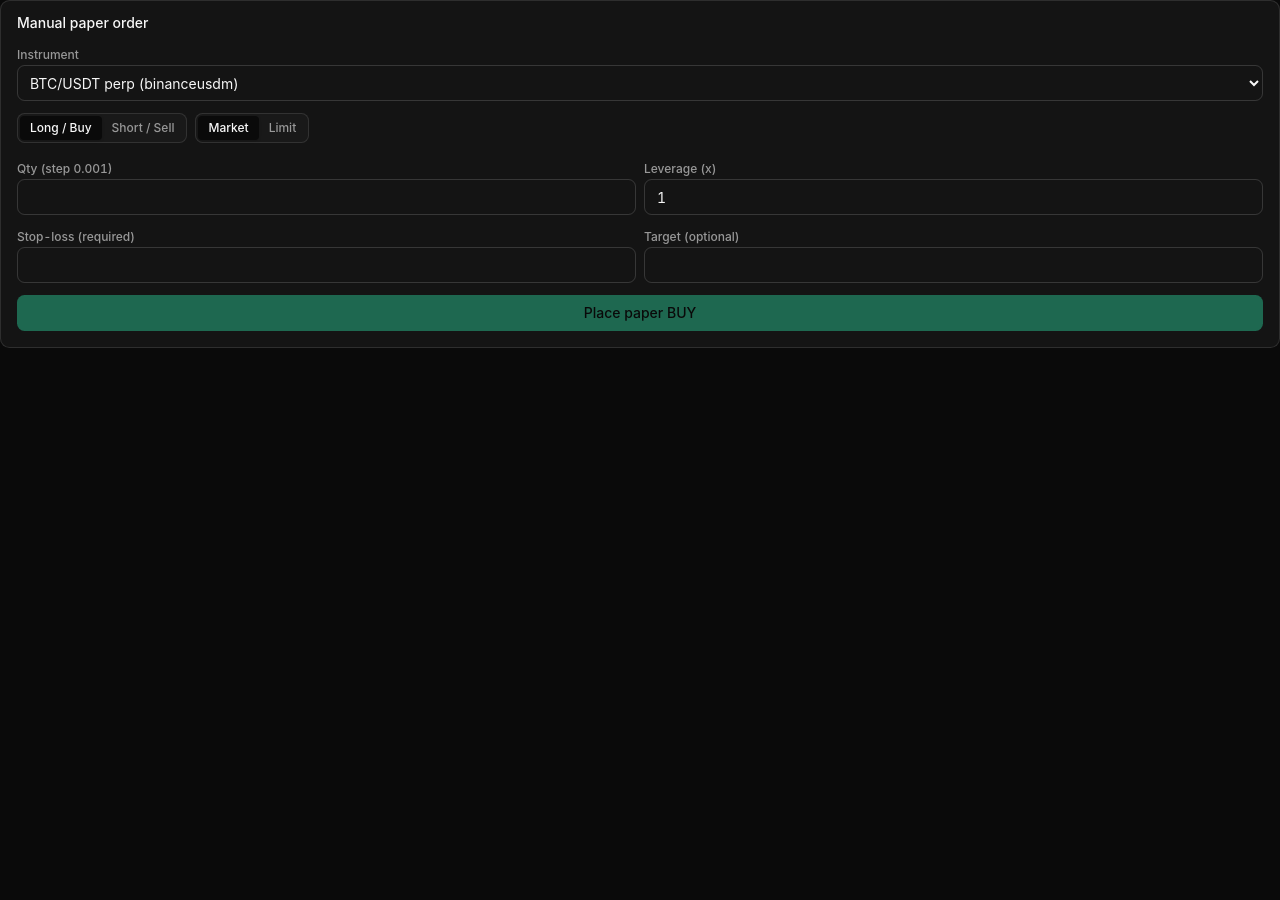
OrderPanel › shows the blocking rule and keeps the button disabled
Type "0.02" into the field labelled "Qty (step 0.001)" at point(326, 197), box [17,179,636,215]
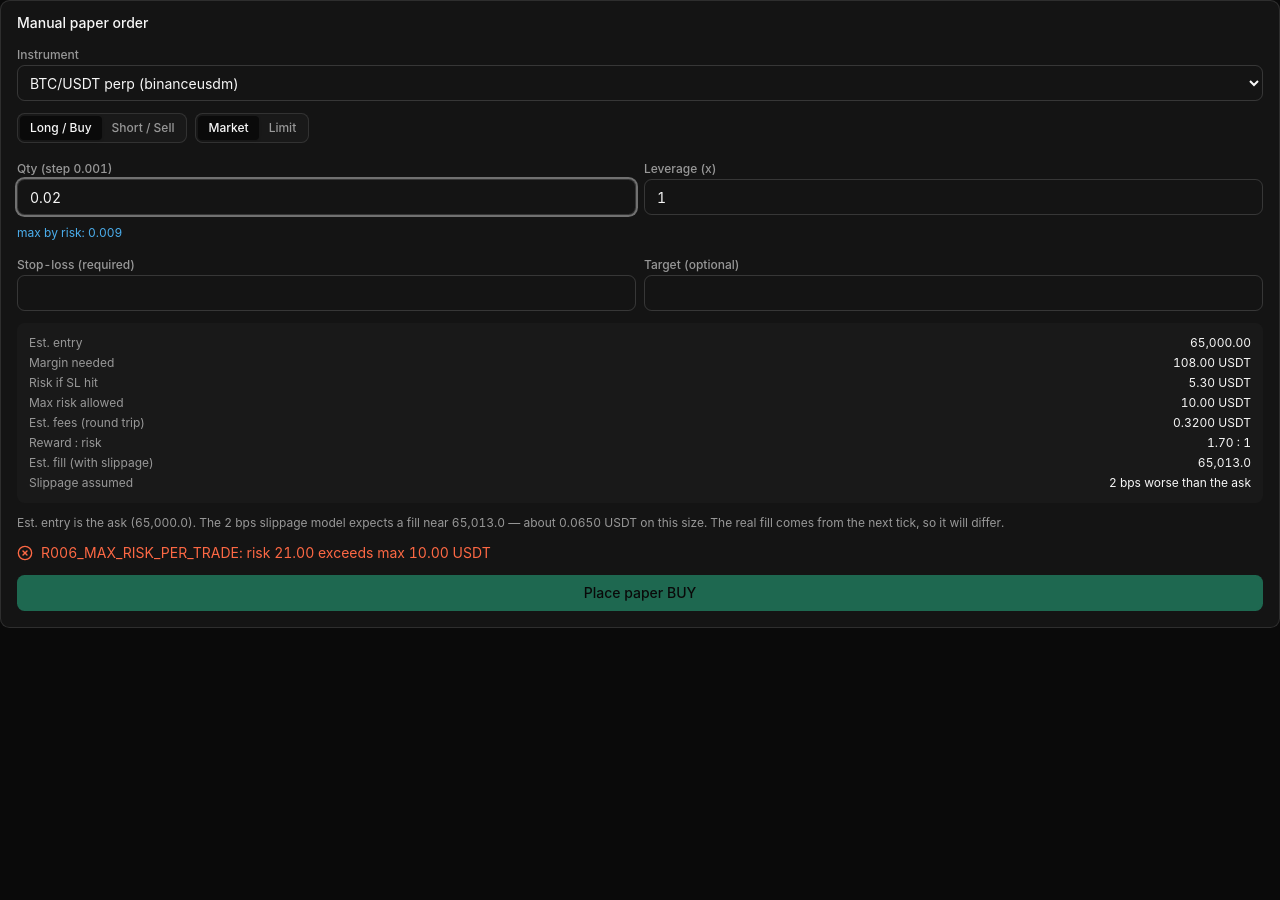
Expected: the button "Place paper BUY" is disabled, [17,575,1263,611]
Expected: the element with test id "risk-verdict" shows "R006_MAX_RISK_PER_TRADE", [41,544,491,561]
